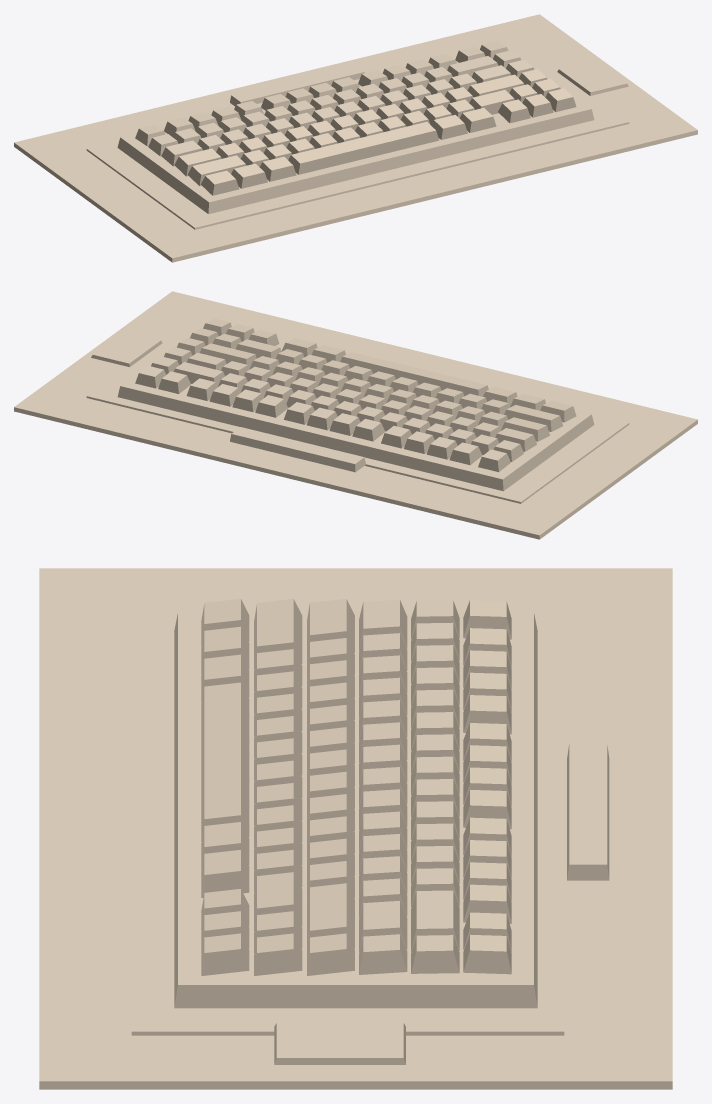
File: keyboard_75_54524539.glb
The picture shows the model from 3 angles, top to bottom: view 1: azimuth 30°, elevation 25°; view 2: azimuth 150°, elevation 25°; view 3: azimuth 270°, elevation 25°; orthographic projection. The views are drawn at different scales.
Visible parts, largest first — view 1: desk; view 2: desk; view 3: desk.
Boxes of the visible parts, x1,y1,x2,y2 form: desk: (14, 14, 697, 262); desk: (14, 291, 697, 539); desk: (39, 568, 672, 1089).
Size of the model in its own units: 23 by 1.24 by 12.
